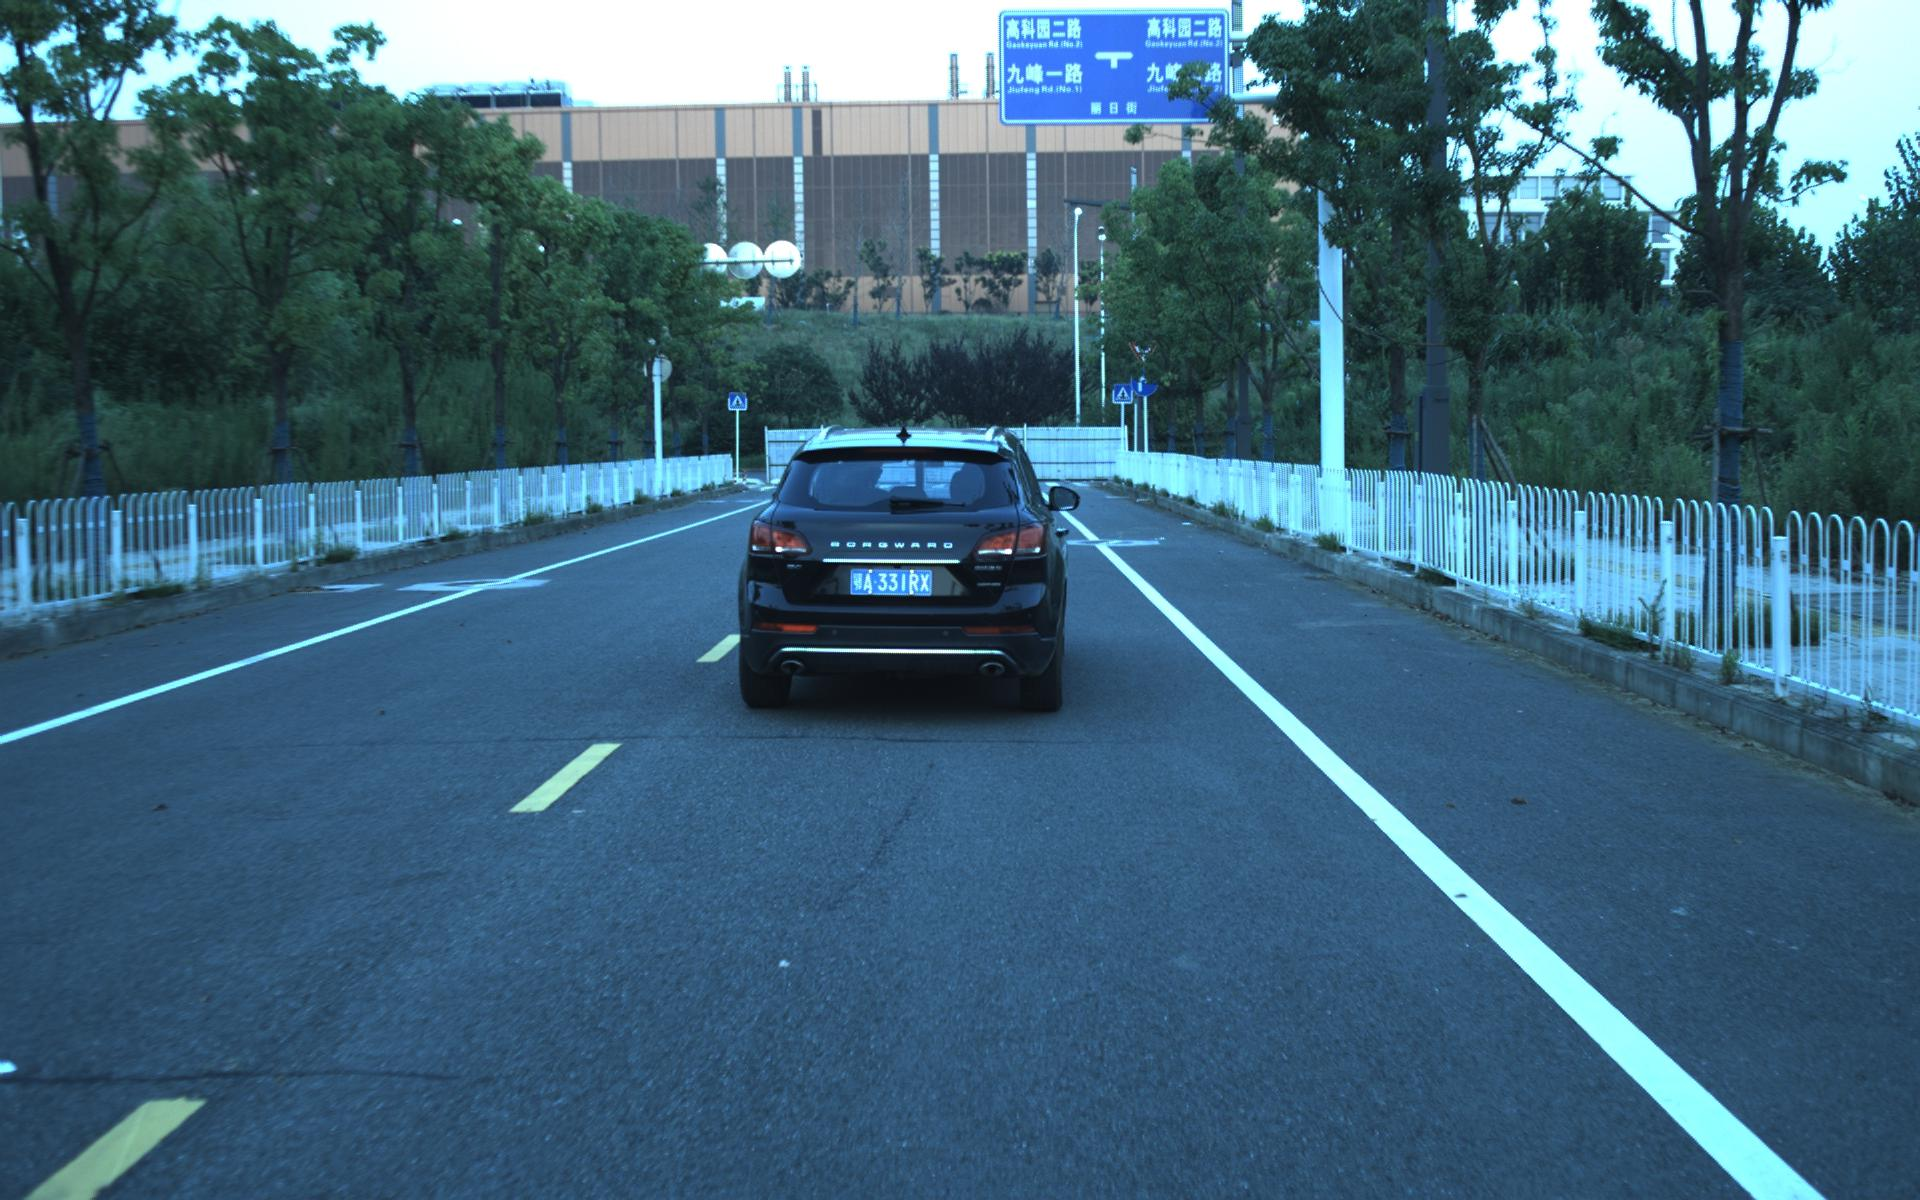Car: (733, 418, 1069, 715)
